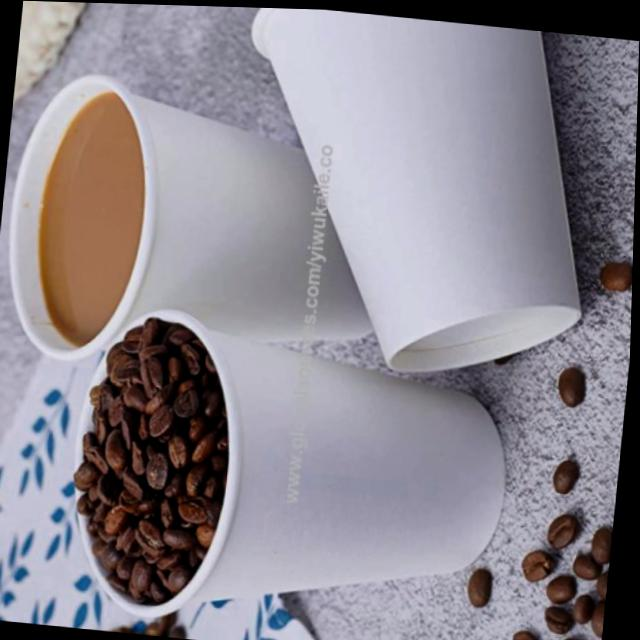Cup: (57, 297, 524, 640), (214, 5, 613, 387), (0, 62, 399, 391)
